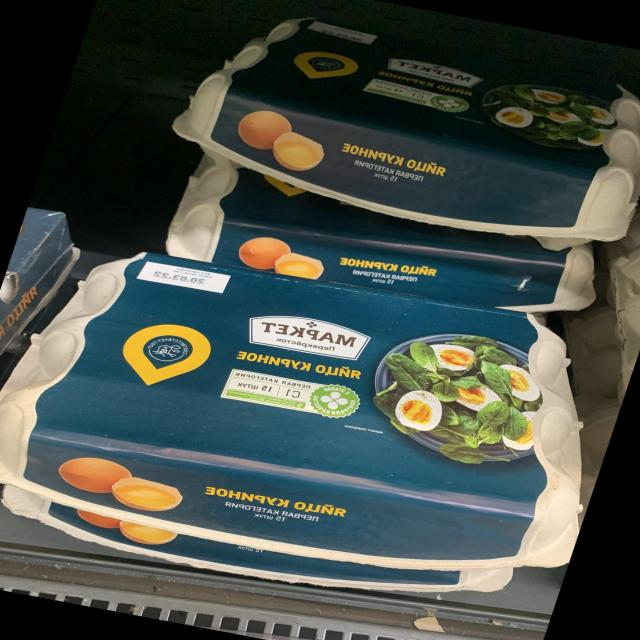organic waste: (0, 227, 640, 595), (156, 0, 640, 261), (156, 167, 610, 332)
